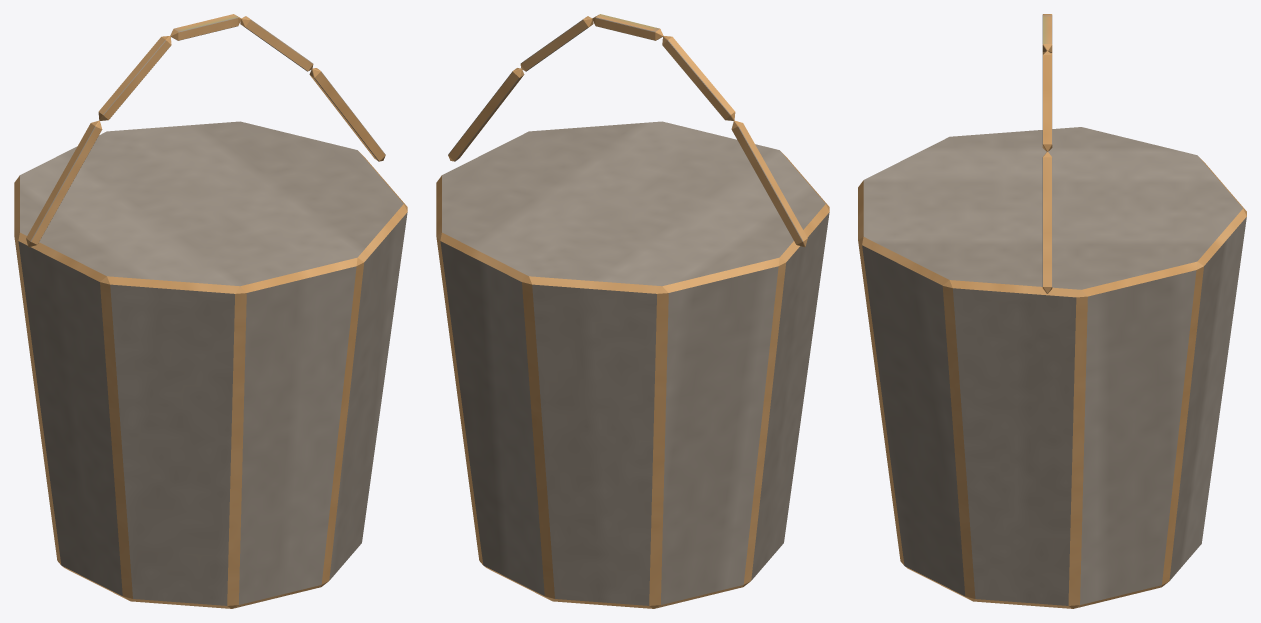
The model's file is sm_prop_bucket.glb.
The picture shows the model from 3 angles, left to right: view 1: azimuth 30°, elevation 25°; view 2: azimuth 150°, elevation 25°; view 3: azimuth 270°, elevation 25°; orthographic projection.
Parts seen in each view (by area): view 1: sm_prop_bucket; view 2: sm_prop_bucket; view 3: sm_prop_bucket.
Part boxes in pixels (left/top/right/bottom): sm_prop_bucket: left=14, top=14, right=407, bottom=608; sm_prop_bucket: left=436, top=14, right=829, bottom=608; sm_prop_bucket: left=858, top=14, right=1246, bottom=608.
Bounding box in the file's own units: 0.2607 × 0.3668 × 0.2498.
1 material, 1 textured.
